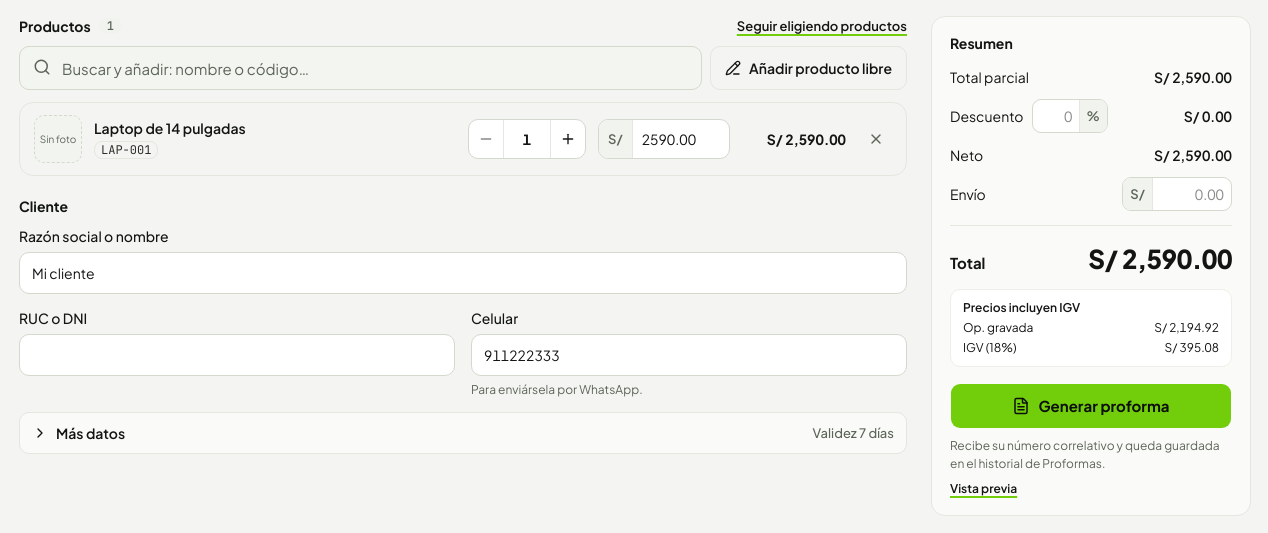
Test: ProformaEditor › cliente desde el historial › si ya estaba todo escrito, solo dice cuántas proformas tiene
Step 1. Type "20000000001" into the field labelled "RUC o DNI" → (237, 355), box 19,334 -> 455,376
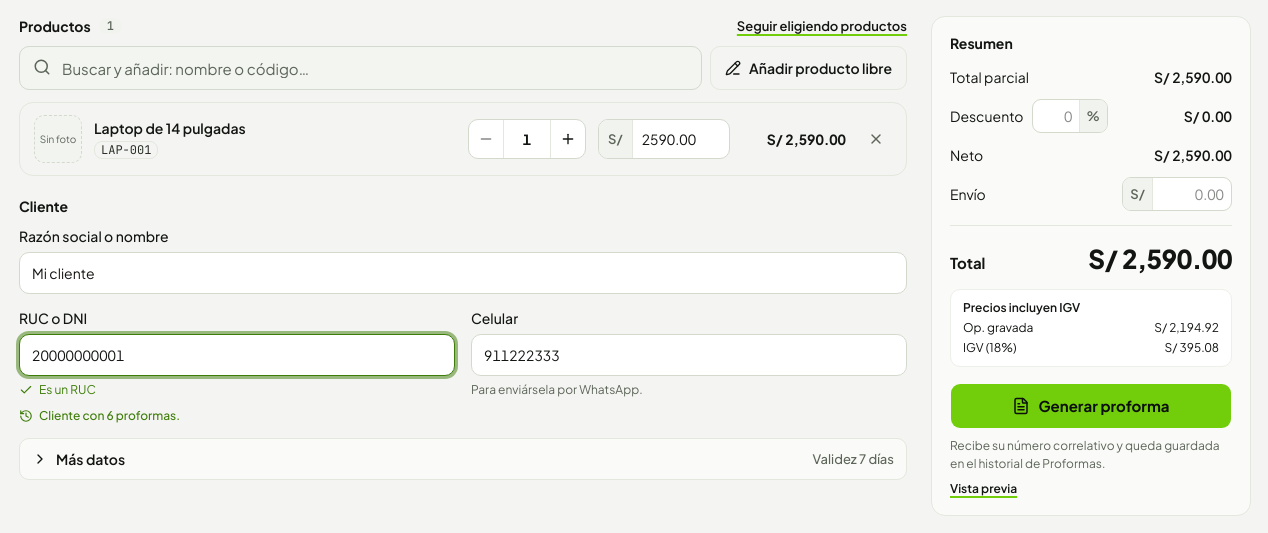
expect the field labelled "Razón social o nombre" holds "Mi cliente": met, box 19,252 -> 907,294
expect the text "Cliente con 6 proformas." is shown: met, box 19,408 -> 180,423
